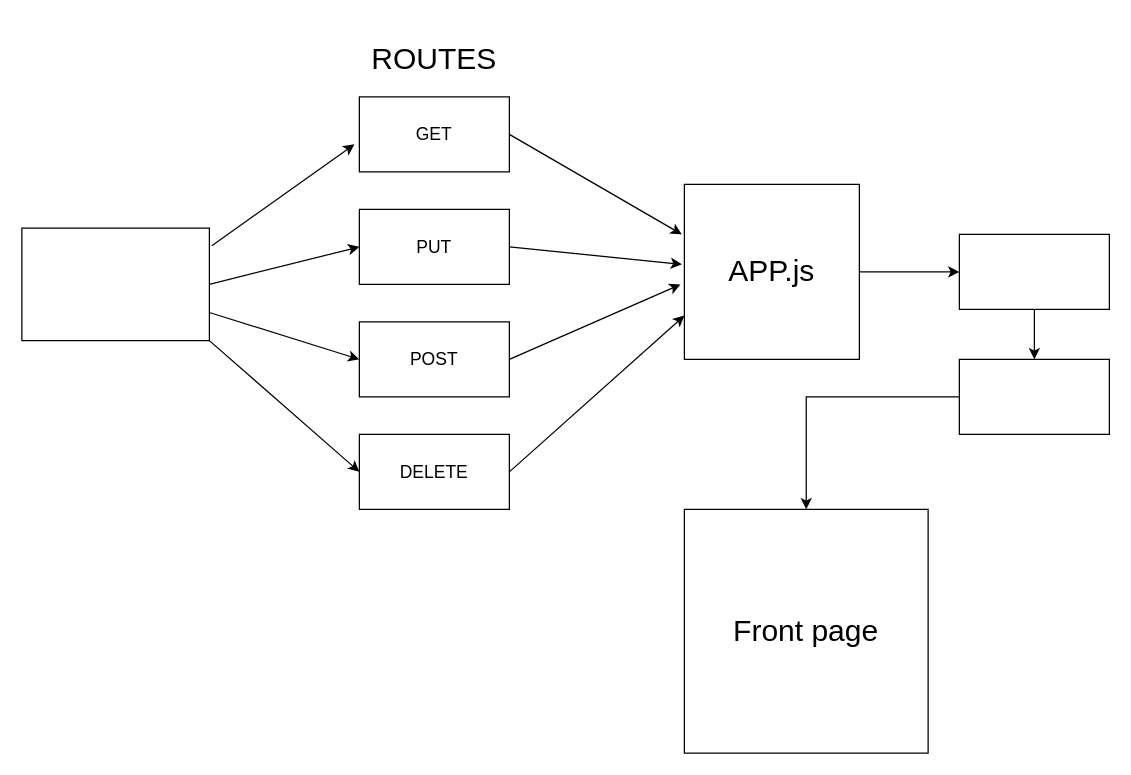
Some shapes in this 1131 by 775 pixel diagram are drawn without their labels. Here are the shapes that lost their labels. From the top down, the centre of each, then its label:
At (x=115, y=284): "Auth Api".
At (x=1033, y=271): "form.js".
At (x=1033, y=396): "results.js".
